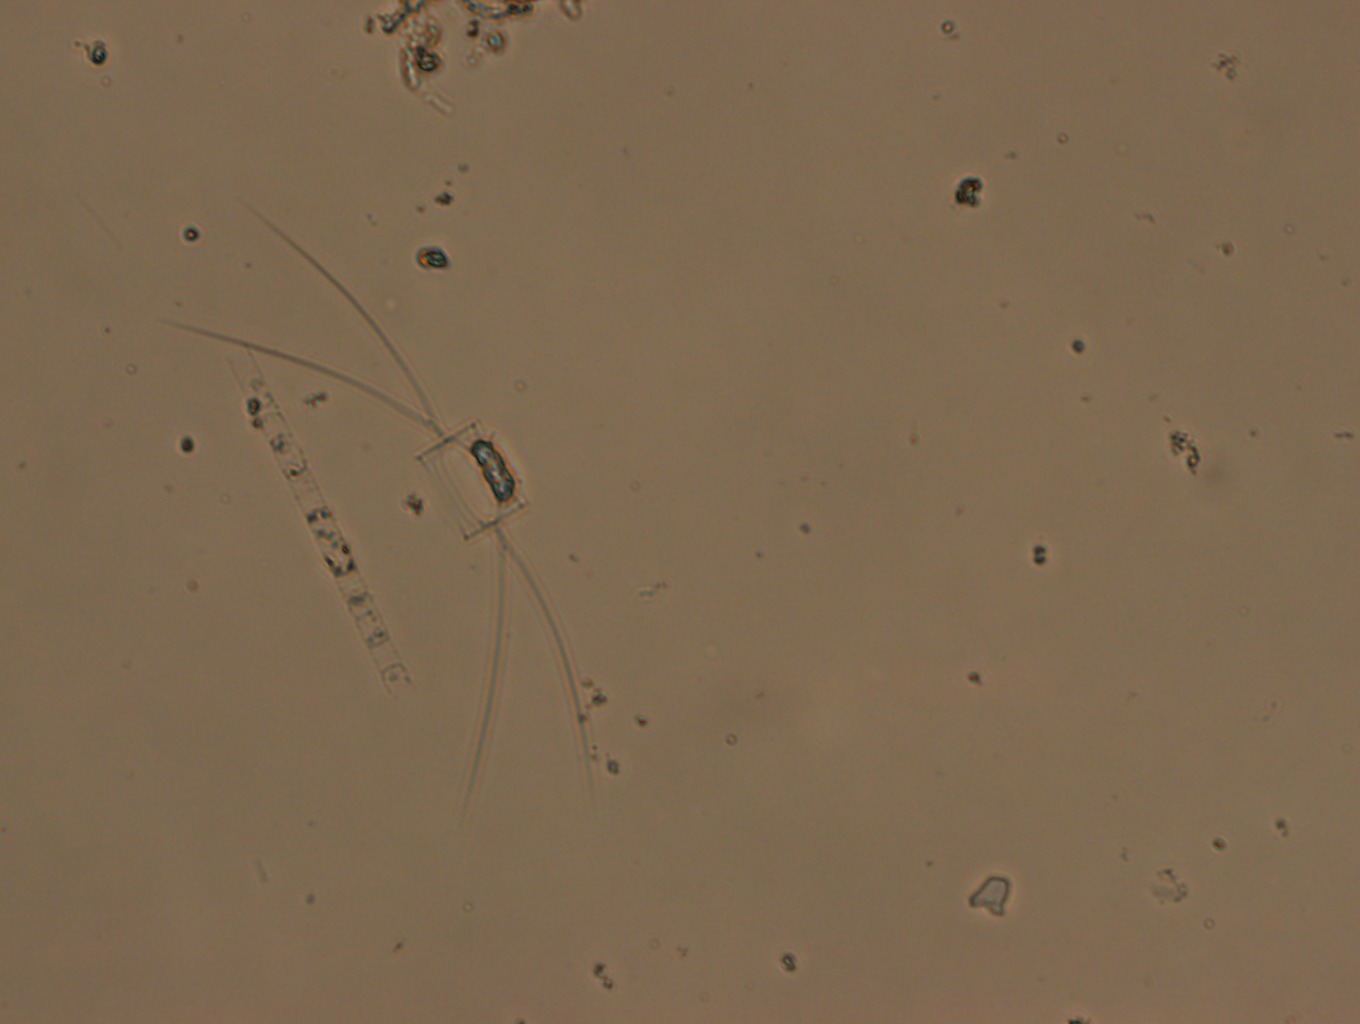skeletonema: (147, 186, 610, 847), (207, 339, 417, 707)
